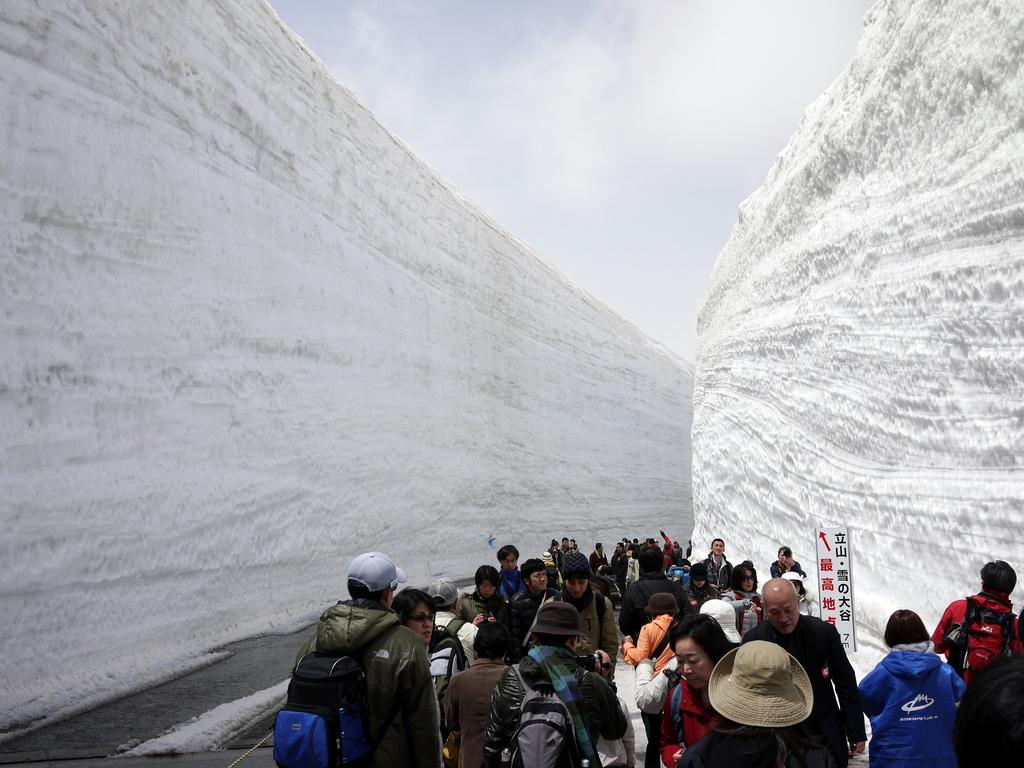Luggage-and-bags: (270, 649, 367, 767), (502, 666, 591, 767), (941, 596, 1015, 687), (429, 614, 468, 733), (550, 593, 605, 630), (668, 684, 687, 742), (704, 560, 732, 589), (543, 564, 560, 598), (667, 565, 685, 588), (605, 575, 620, 602)
